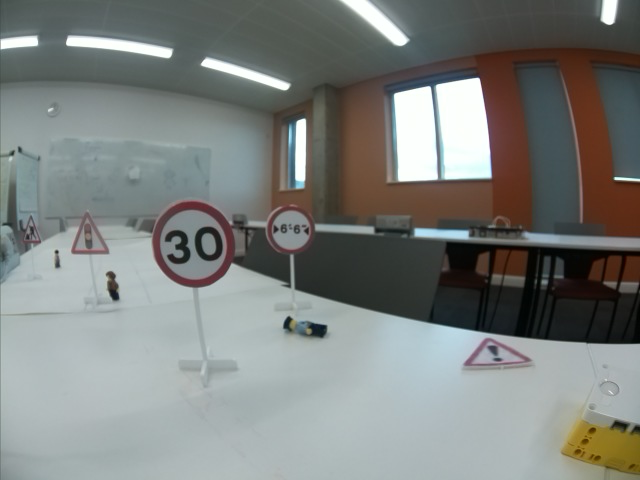30mph: (151, 200, 236, 286)
6ft6: (266, 206, 315, 253)
Lego Man: (286, 316, 331, 338), (107, 270, 122, 303), (53, 247, 60, 267)
Roadworks: (22, 216, 42, 243)
Traffic lights: (73, 208, 110, 254)
Warning: (460, 336, 536, 371)
